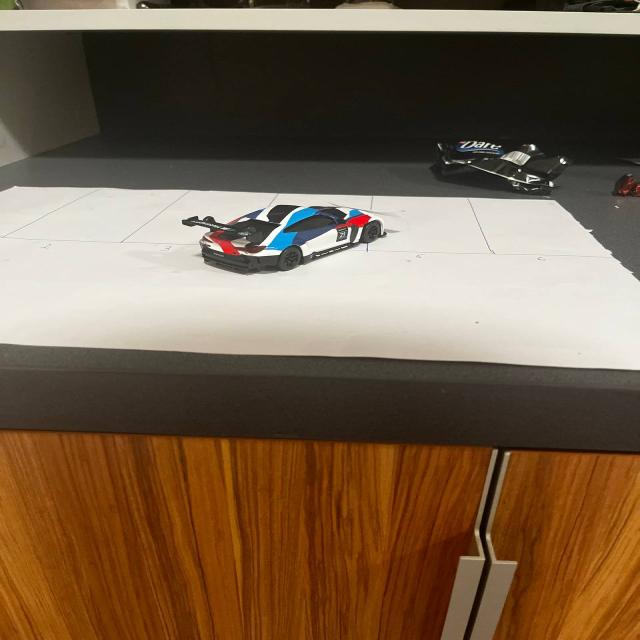cars: (162, 197, 435, 293)
